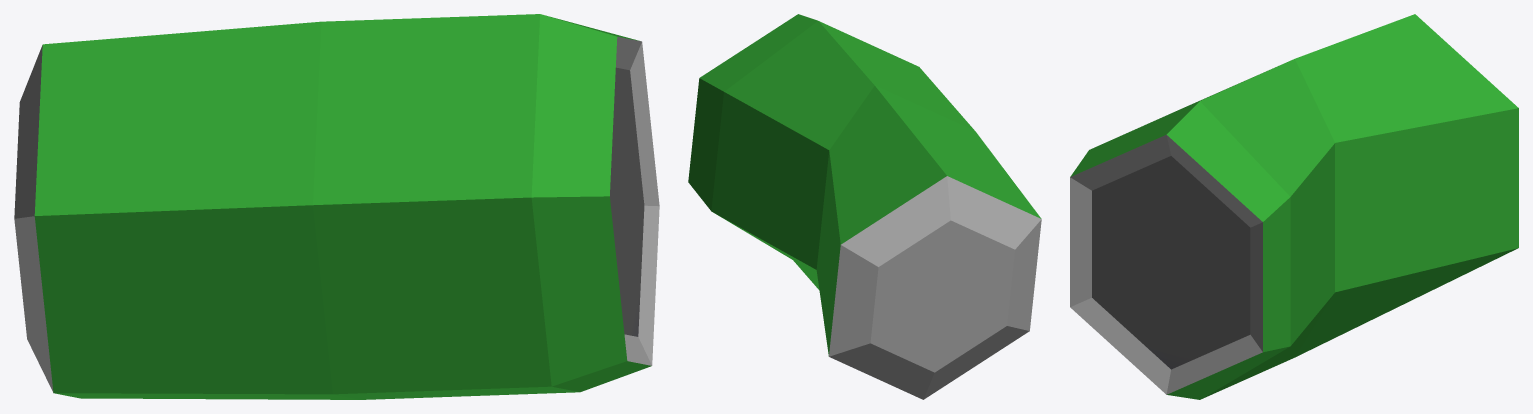
Rendered from M_AluminiumBottle.fbx.
3 renders of one model, left to right at view 1: azimuth 30°, elevation 25°; view 2: azimuth 150°, elevation 25°; view 3: azimuth 270°, elevation 25°, orthographic. The views are drawn at different scales.
Parts seen in each view (by area): view 1: AluminiumCan; view 2: AluminiumCan; view 3: AluminiumCan.
Boxes of the visible parts, x1,y1,x2,y2 form: AluminiumCan: (14,14,659,399); AluminiumCan: (688,14,1041,399); AluminiumCan: (1070,14,1518,399).
Bounding box in the file's own units: 166 × 112 × 149.
